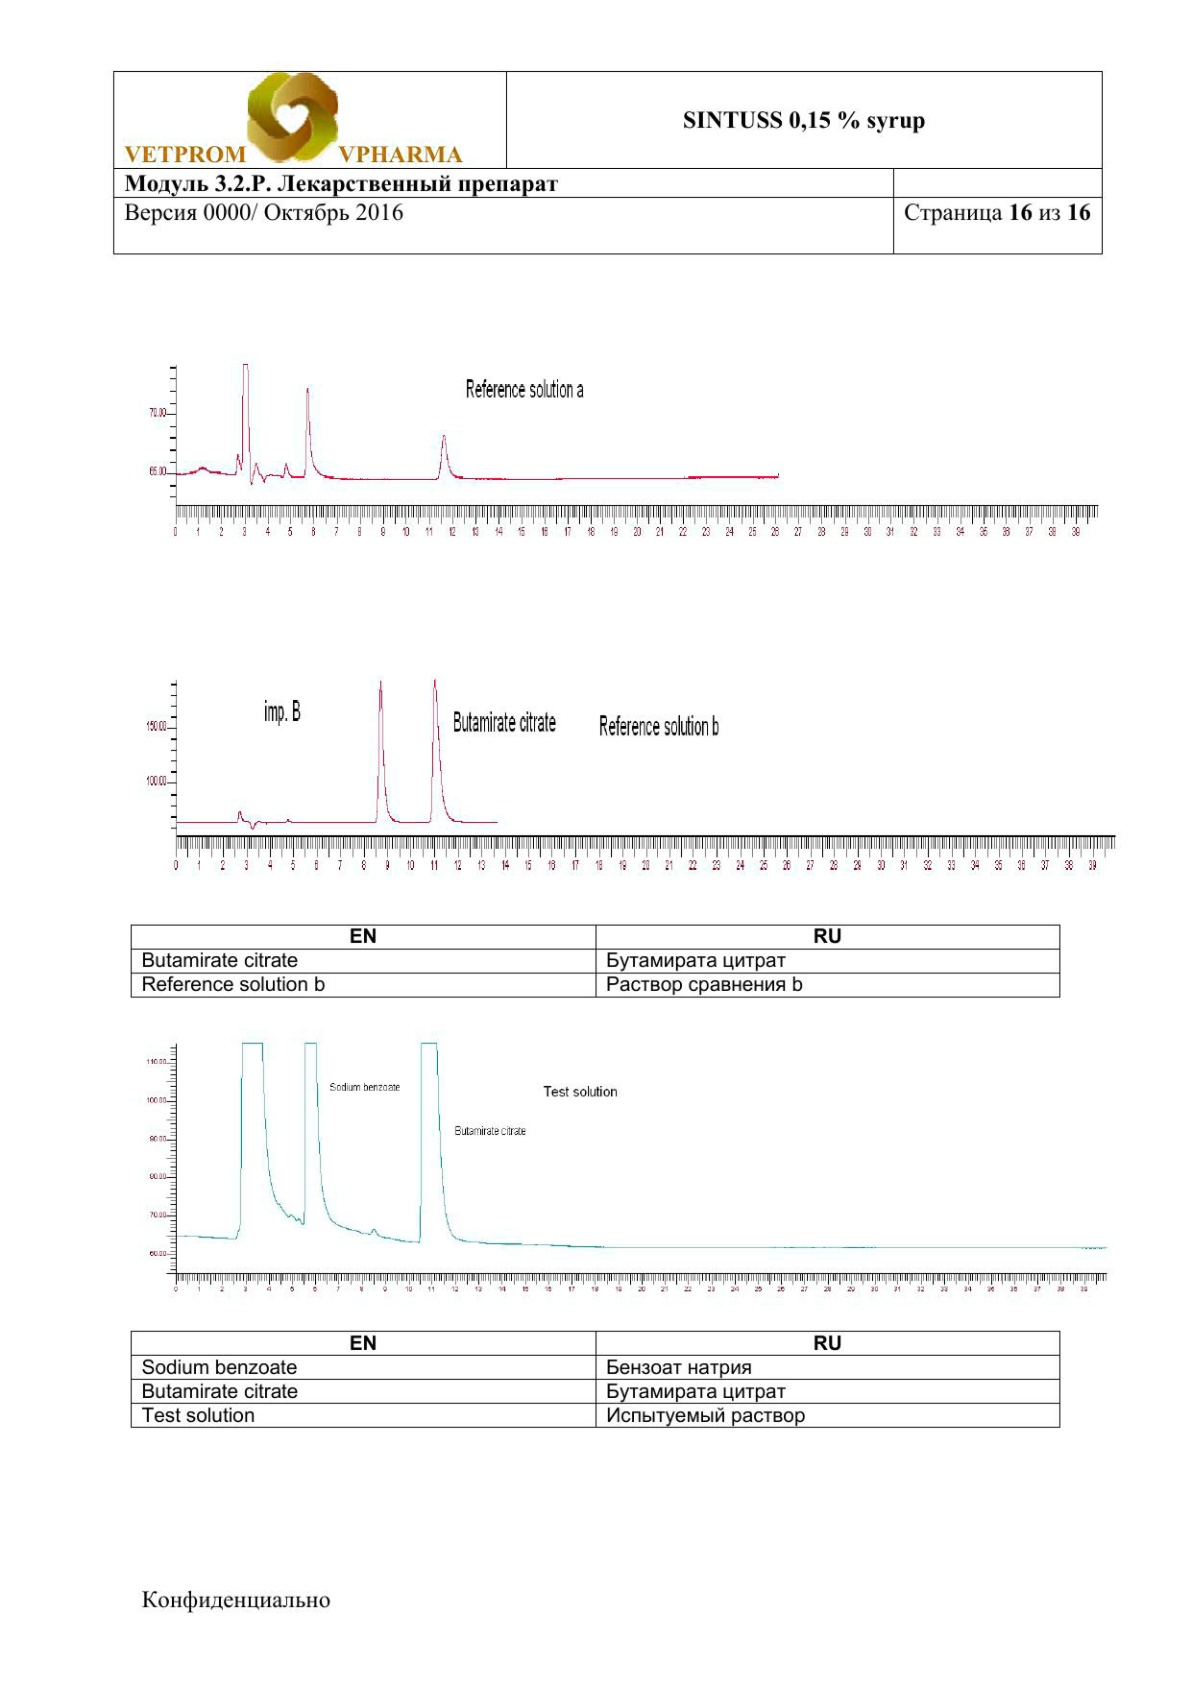full_lined: (129, 1329, 1062, 1430), (129, 922, 1060, 999)
merged_cells: (111, 68, 1103, 255)
